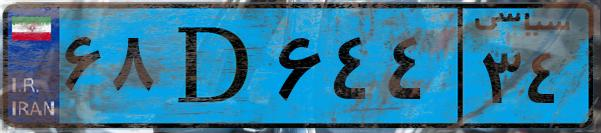3: (475, 38, 525, 113)
4: (385, 28, 445, 110), (330, 28, 385, 110), (525, 38, 570, 115)
6: (270, 28, 330, 110), (57, 26, 110, 100)
8: (110, 28, 158, 98)
D: (158, 12, 270, 120)
